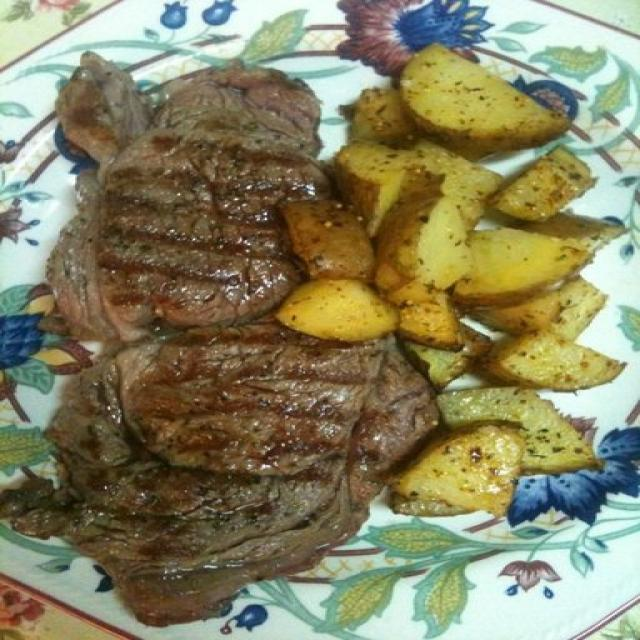Potato: (398, 40, 622, 530)
Steak: (30, 39, 386, 640)
